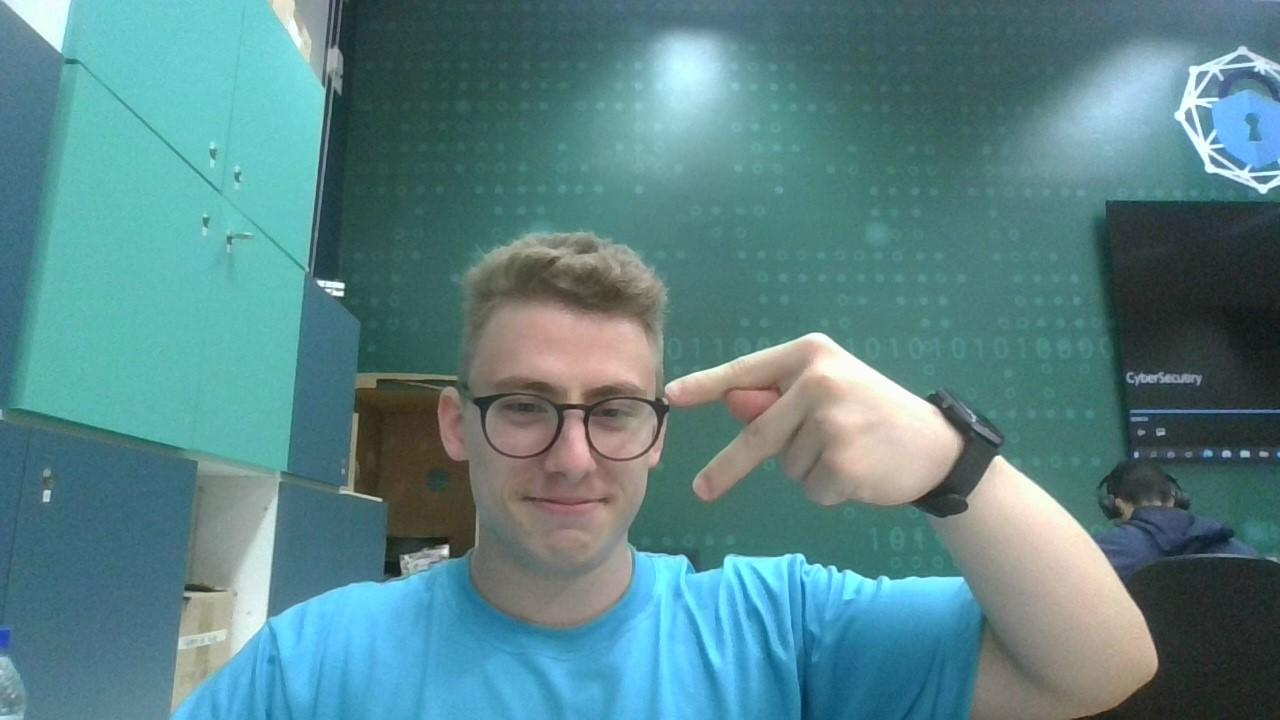P: (665, 318, 950, 517)
